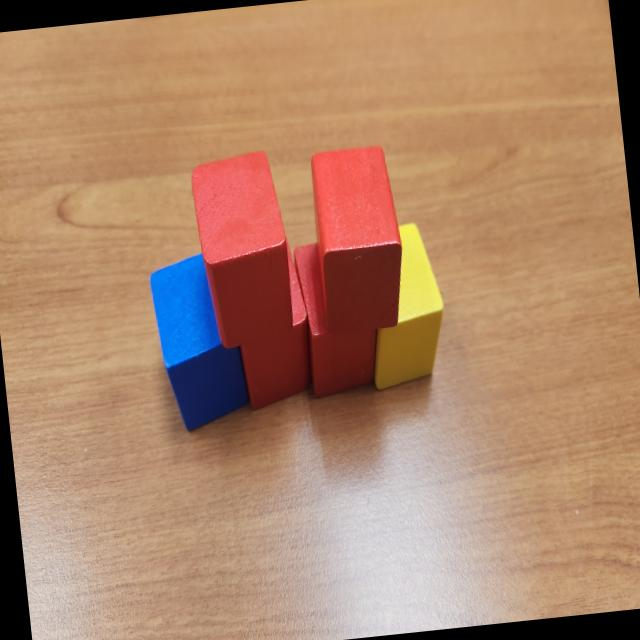blue: (148, 247, 256, 432)
red: (188, 148, 296, 350), (306, 142, 409, 334), (228, 234, 316, 411), (293, 238, 383, 398)
yellow: (352, 218, 452, 394)
